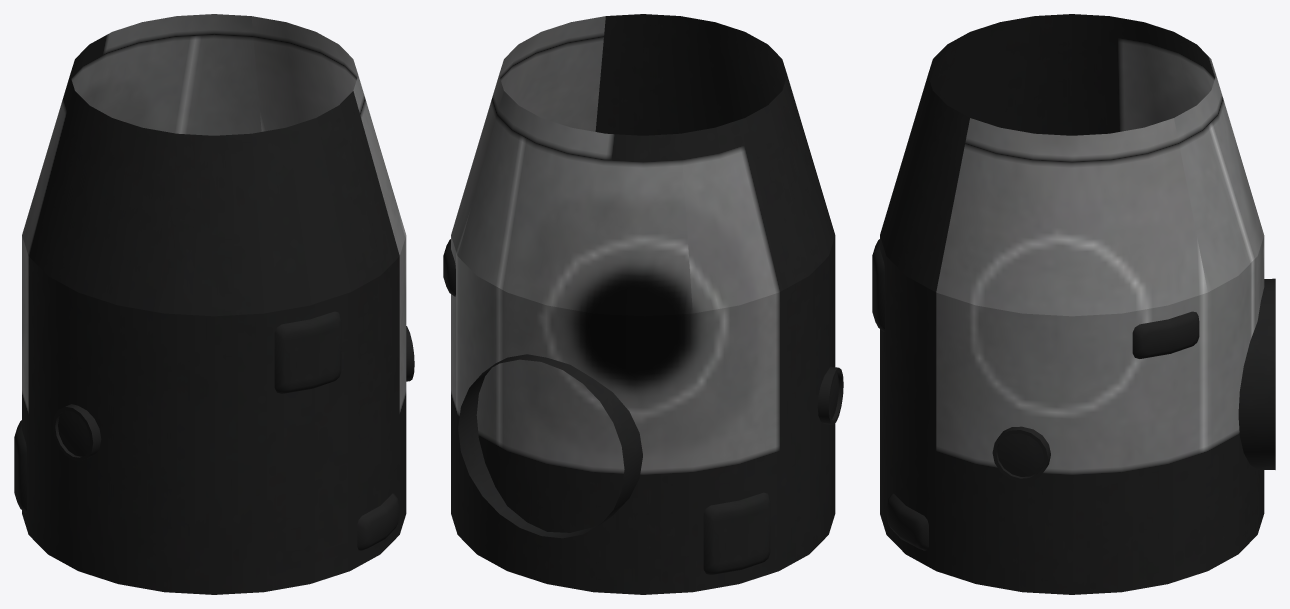
The model's file is vega_crew_s1_1.obj.
The picture shows the model from 3 angles, left to right: view 1: azimuth 30°, elevation 25°; view 2: azimuth 150°, elevation 25°; view 3: azimuth 270°, elevation 25°; orthographic projection.
Visible parts, largest first — view 1: 1, w1; view 2: 1; view 3: 1, w1.
Boxes of the visible parts, bbox=[...] form: 1: bbox=[14, 14, 414, 594]; w1: bbox=[58, 410, 90, 456]; 1: bbox=[443, 14, 843, 594]; 1: bbox=[872, 14, 1275, 594]; w1: bbox=[997, 433, 1044, 476].
Size of the model in its own units: 1.3 by 1.58 by 1.31.
